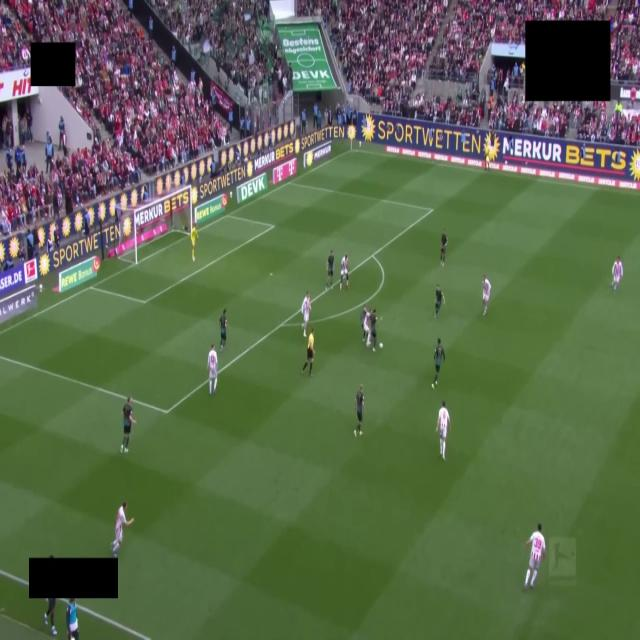ball: (380, 343, 383, 348)
player: (524, 524, 545, 588), (111, 502, 133, 557), (436, 401, 450, 460), (121, 397, 135, 453), (432, 338, 445, 389), (354, 384, 364, 436), (207, 344, 217, 394), (301, 292, 311, 336), (611, 256, 623, 292), (368, 309, 377, 351), (435, 285, 445, 317), (483, 275, 491, 315), (326, 250, 334, 288), (219, 309, 226, 351), (340, 255, 348, 290), (360, 307, 368, 341), (190, 224, 197, 261), (363, 310, 370, 346), (441, 230, 447, 266)
referee: (302, 328, 314, 376)
